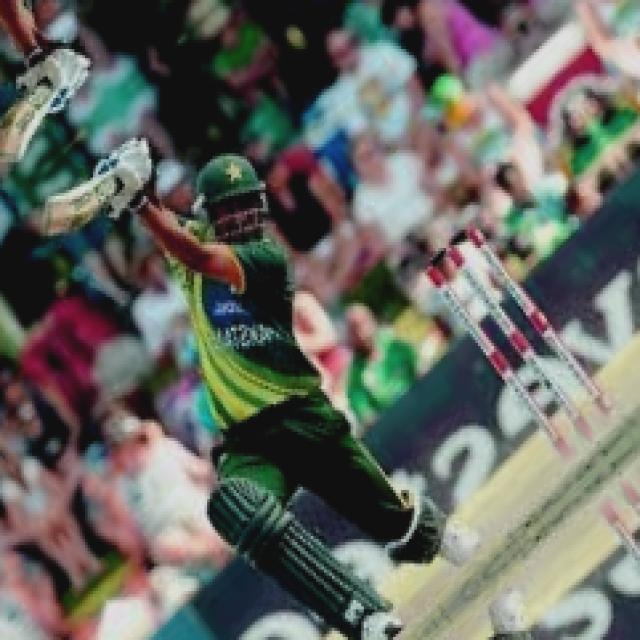toe: (33, 194, 73, 240)
